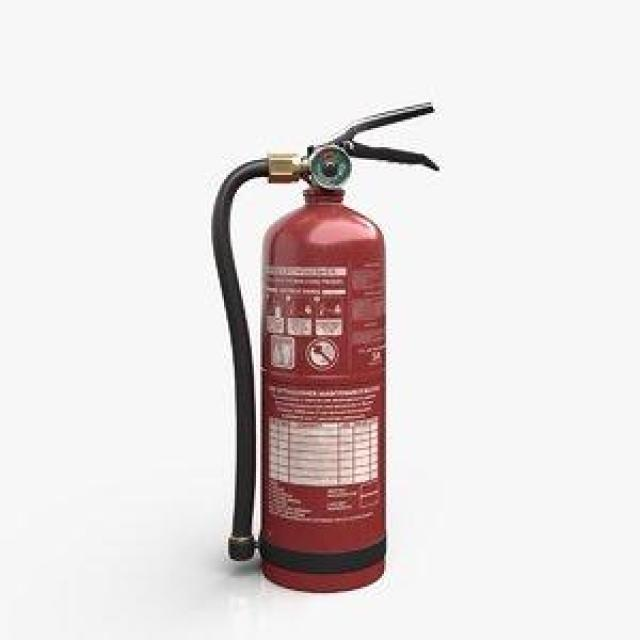fire_extinguisher: (206, 98, 440, 595)
